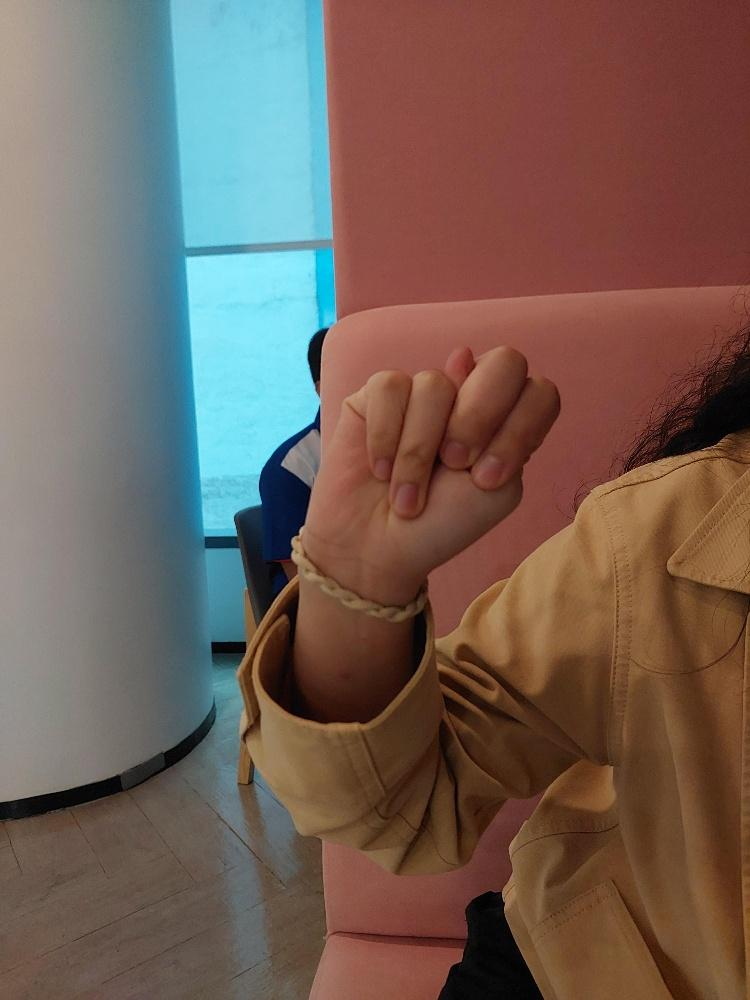n: (295, 332, 571, 585)
